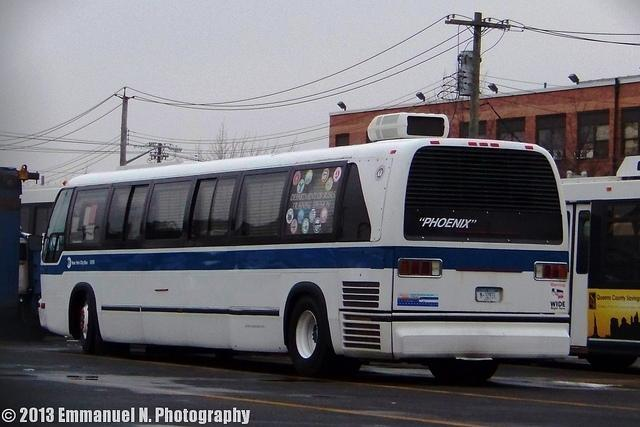bus: (39, 139, 574, 384)
